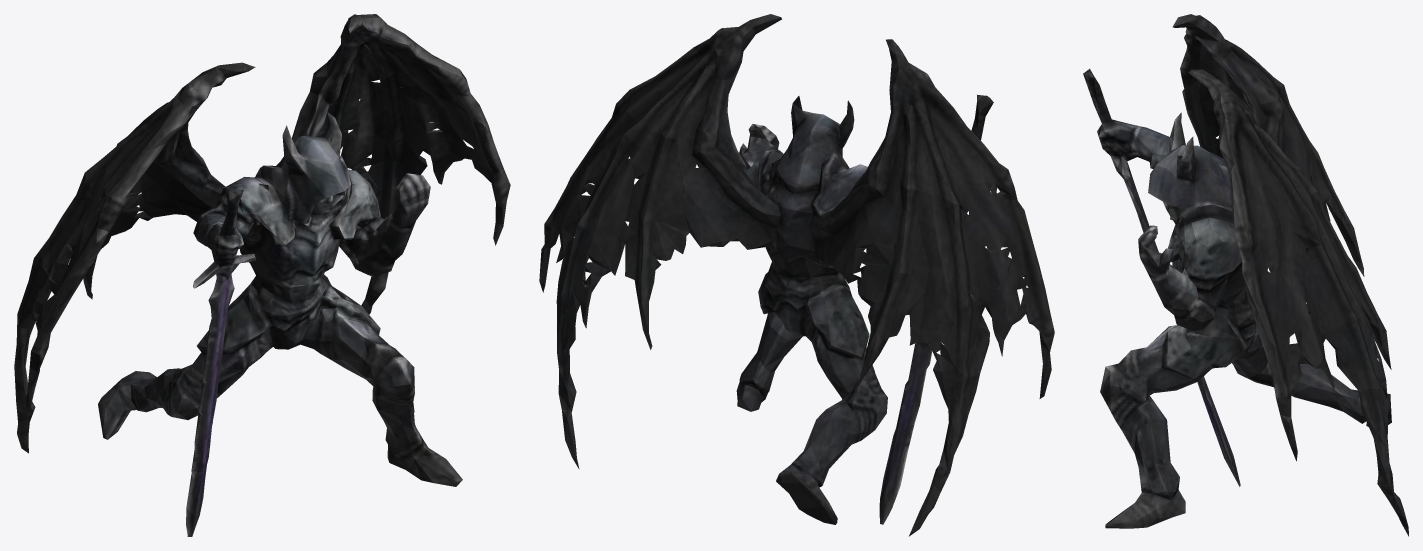
The model's file is foe_kaelith_kneel.glb.
3 renders of one model, left to right at view 1: azimuth 30°, elevation 25°; view 2: azimuth 150°, elevation 25°; view 3: azimuth 270°, elevation 25°, orthographic. The views are drawn at different scales.
Visible parts, largest first — view 1: tripo_node_71419767-3b27-4685-8304-7b8297c35a2a.001; view 2: tripo_node_71419767-3b27-4685-8304-7b8297c35a2a.001; view 3: tripo_node_71419767-3b27-4685-8304-7b8297c35a2a.001.
Part boxes in pixels (x1,y1,x2,y2): tripo_node_71419767-3b27-4685-8304-7b8297c35a2a.001: (14, 14, 510, 536); tripo_node_71419767-3b27-4685-8304-7b8297c35a2a.001: (539, 14, 1054, 536); tripo_node_71419767-3b27-4685-8304-7b8297c35a2a.001: (1083, 14, 1408, 536).
Size of the model in its own units: 0.9705 by 0.9021 by 0.55.
1 material, 1 textured.
